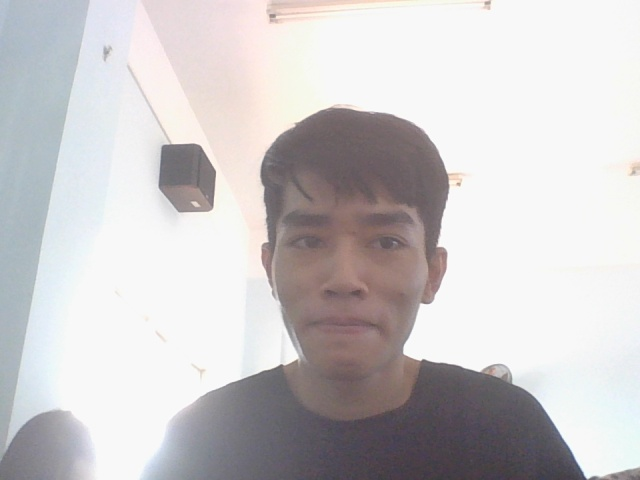real: (243, 94, 459, 400)
